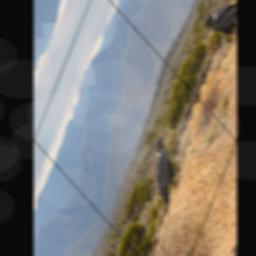Crow: (138, 130, 190, 219)
